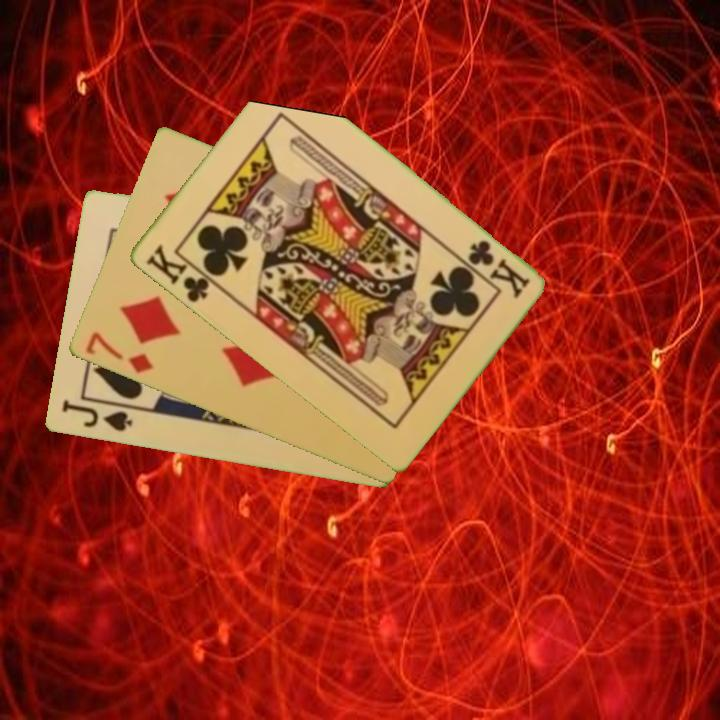7d: (81, 328, 156, 377)
Js: (58, 396, 135, 435)
Kc: (142, 240, 220, 306), (463, 236, 533, 301)
